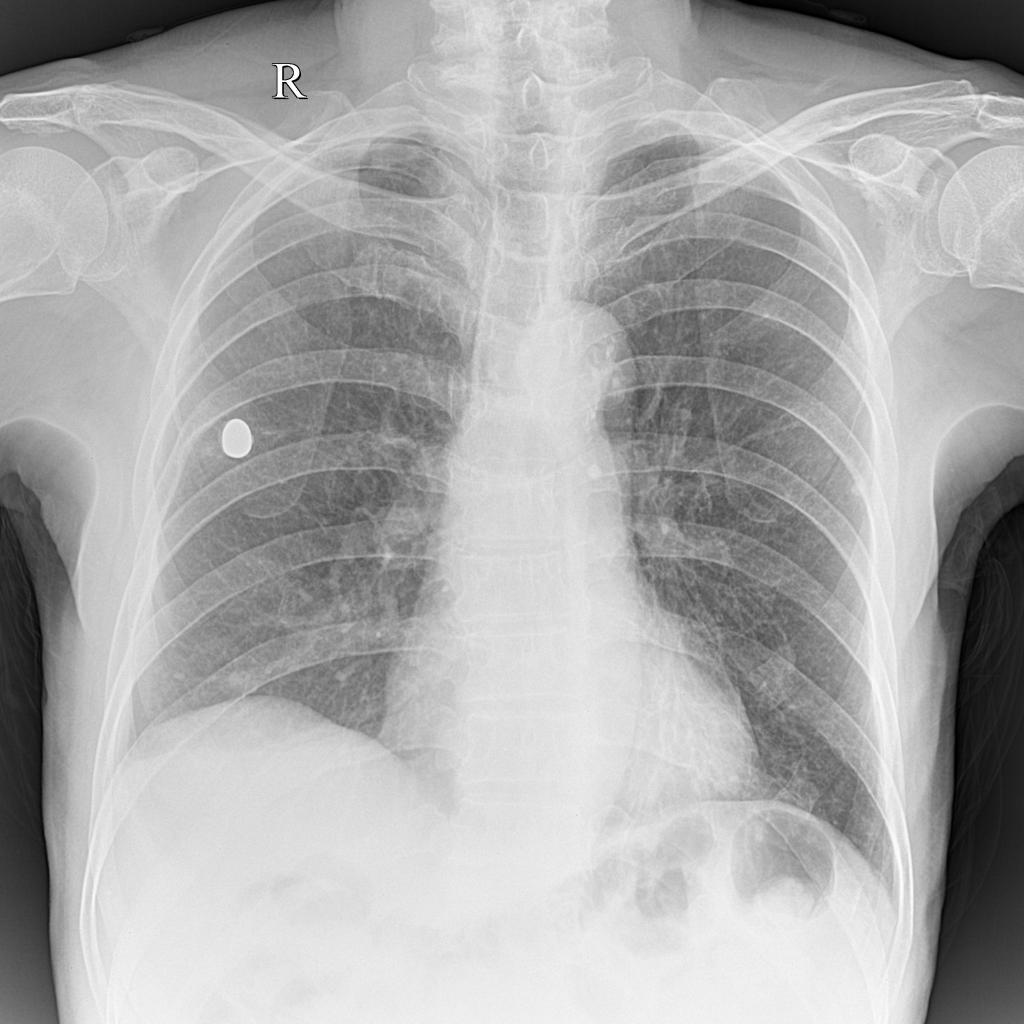Nodule: (164, 666, 195, 684)
